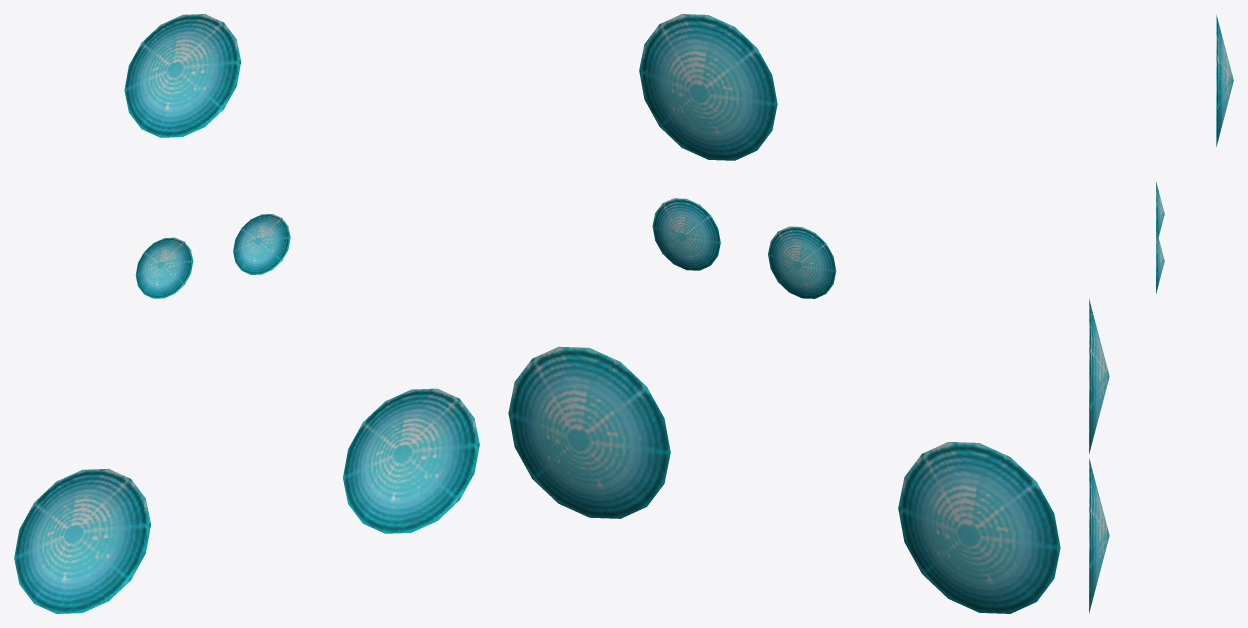
Rendered from merchant_cruiser_medium_engine_on_l0.fbx.
3 renders of one model, left to right at view 1: azimuth 30°, elevation 25°; view 2: azimuth 150°, elevation 25°; view 3: azimuth 270°, elevation 25°, orthographic. The views are drawn at different scales.
Parts seen in each view (by area): view 1: mesh_node; view 2: mesh_node; view 3: mesh_node.
Boxes of the visible parts, box(x1,y1,x2,y2) form: mesh_node: box(14, 14, 479, 613); mesh_node: box(508, 14, 1060, 613); mesh_node: box(1089, 14, 1233, 613).
Bounding box in the file's own units: 9.99 × 10.48 × 2.71.
